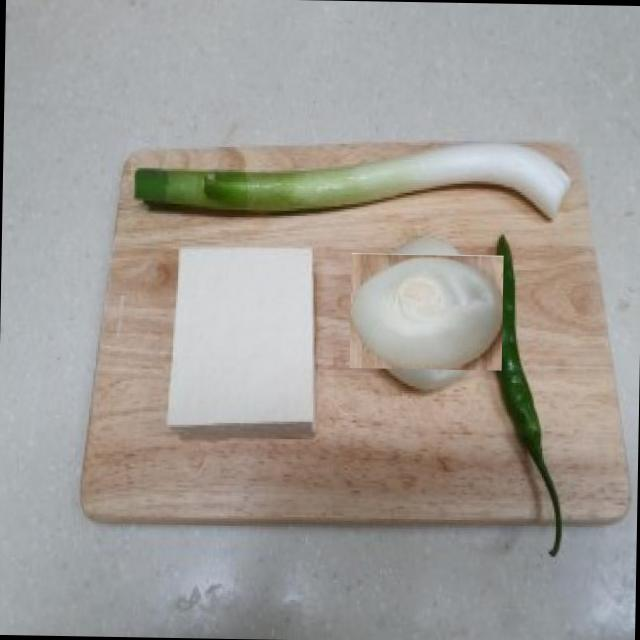Onion: (358, 244, 494, 380)
